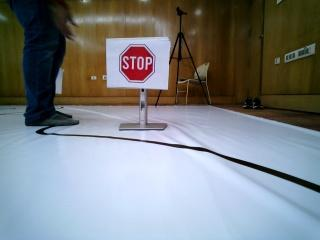stop: (112, 46, 164, 88)
